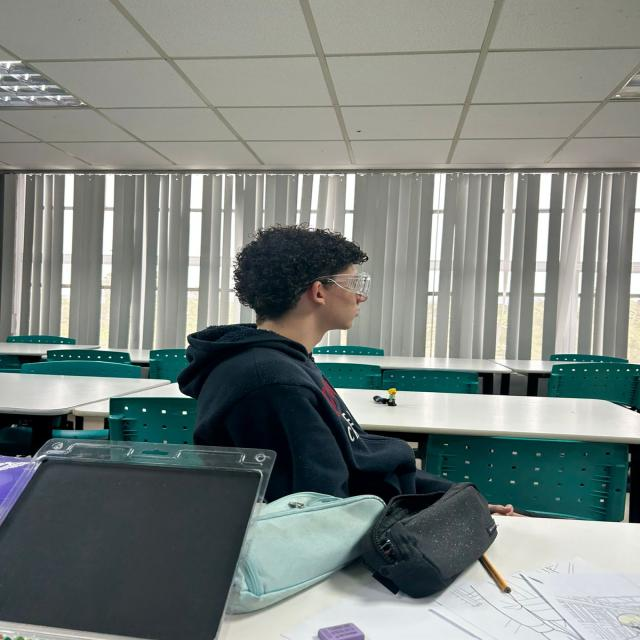oculos-epi: (302, 271, 372, 297)
